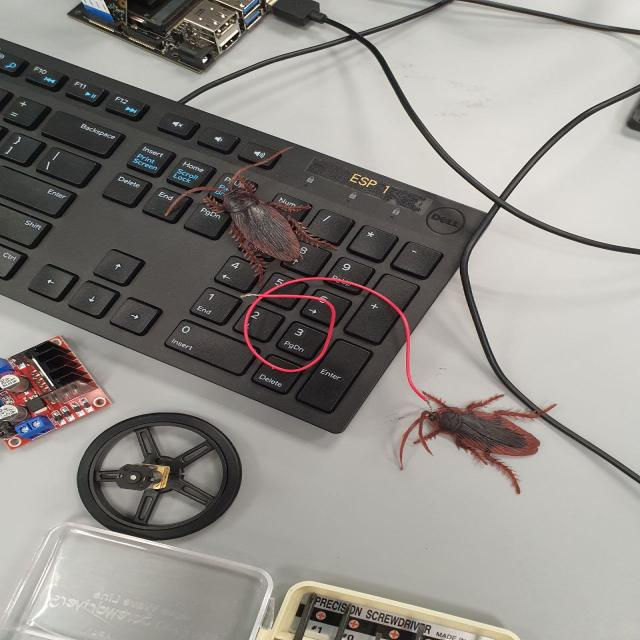Cockroach: (385, 383, 560, 504), (172, 149, 342, 270)
